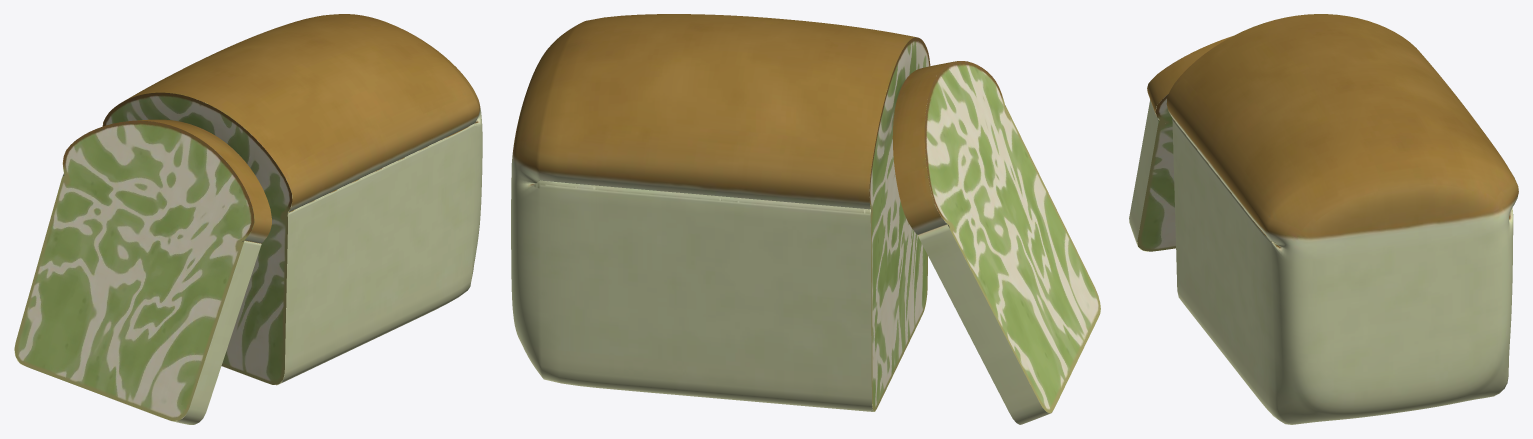
File: loaf--matcha-ground.glb
3 renders of one model, left to right at view 1: azimuth 30°, elevation 25°; view 2: azimuth 150°, elevation 25°; view 3: azimuth 270°, elevation 25°, orthographic. The views are drawn at different scales.
Visible parts, largest first — view 1: loaf_matcha-ground; view 2: loaf_matcha-ground; view 3: loaf_matcha-ground.
Boxes of the visible parts, x1,y1,x2,y2 form: loaf_matcha-ground: (14, 14, 482, 424); loaf_matcha-ground: (511, 14, 1100, 424); loaf_matcha-ground: (1129, 14, 1518, 424).
Size of the model in its own units: 1.25 by 0.72 by 0.8971.
1 material, 1 textured.
